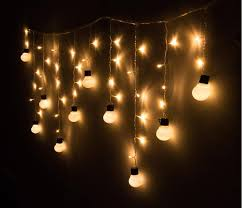bulb: (182, 77, 216, 111), (98, 104, 124, 134), (62, 104, 90, 128), (151, 121, 177, 146), (124, 170, 149, 193), (24, 119, 49, 140), (30, 92, 53, 112), (15, 46, 38, 66), (51, 138, 73, 158), (79, 73, 102, 89)
